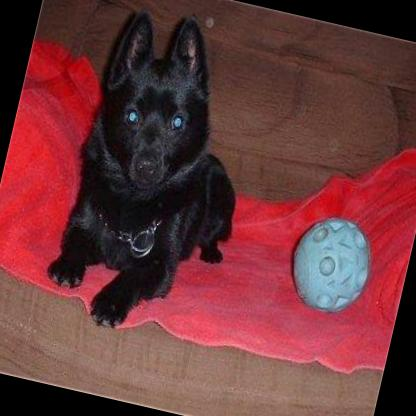schipperke: (35, 0, 275, 348)
